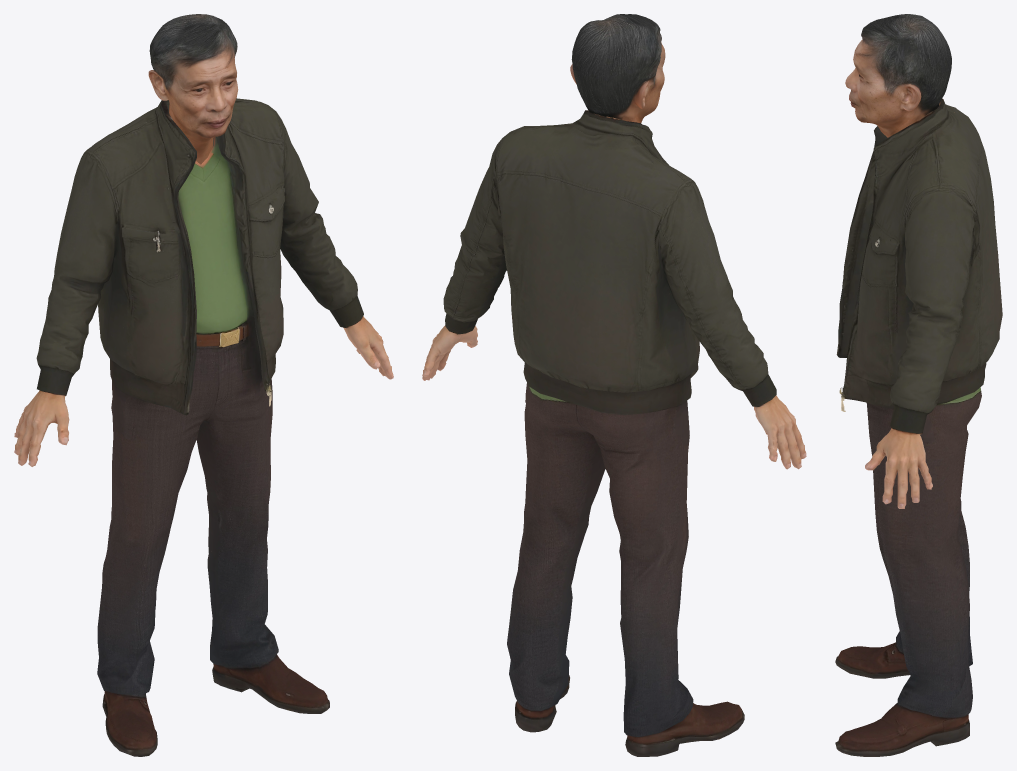
File: avatar.glb
The picture shows the model from 3 angles, left to right: view 1: azimuth 30°, elevation 25°; view 2: azimuth 150°, elevation 25°; view 3: azimuth 270°, elevation 25°; orthographic projection. The views are drawn at different scales.
Visible parts, largest first — view 1: KH_008_nohead, reUv; view 2: KH_008_nohead, reUv; view 3: KH_008_nohead, reUv.
Part boxes in pixels (left/top/right/bottom): KH_008_nohead: left=14, top=98, right=393, bottom=756; reUv: left=148, top=14, right=238, bottom=164; KH_008_nohead: left=422, top=110, right=806, bottom=756; reUv: left=570, top=14, right=665, bottom=122; KH_008_nohead: left=835, top=98, right=1002, bottom=756; reUv: left=845, top=14, right=951, bottom=137.
Size of the model in its own units: 0.0946 by 0.1696 by 0.0375.
Materials: 2 (2 with a texture image).
